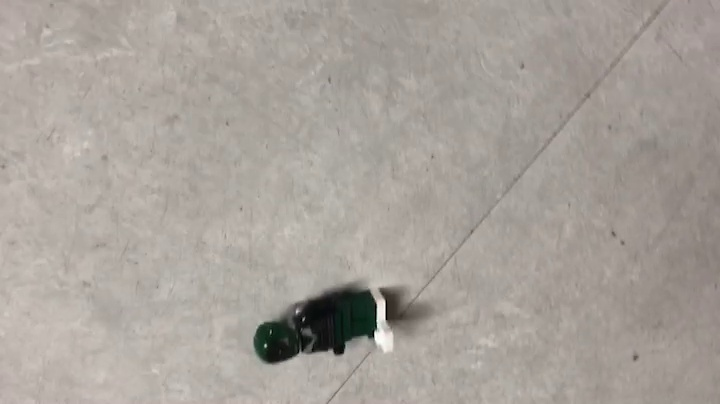people: (252, 286, 398, 366)
